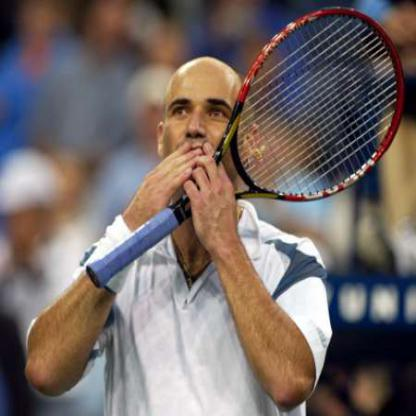face: (160, 59, 251, 193)
